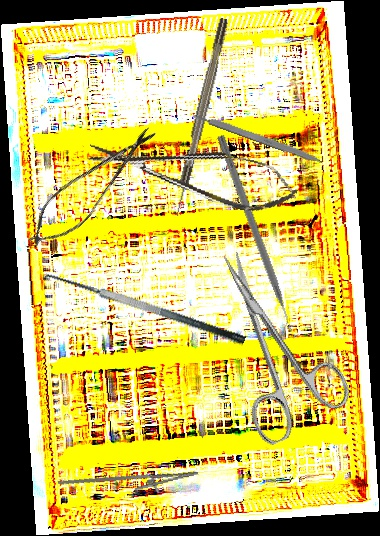Chopper: (206, 133, 297, 340)
Hook Surgical: (170, 17, 231, 218)
Iris Scissors: (187, 232, 358, 449)
Micro Scissor: (83, 121, 303, 222), (17, 113, 166, 260)
Needle Holder: (57, 453, 201, 513)
Scalpel Handle: (191, 109, 325, 166)
Spatula Surgical: (40, 263, 247, 362)
